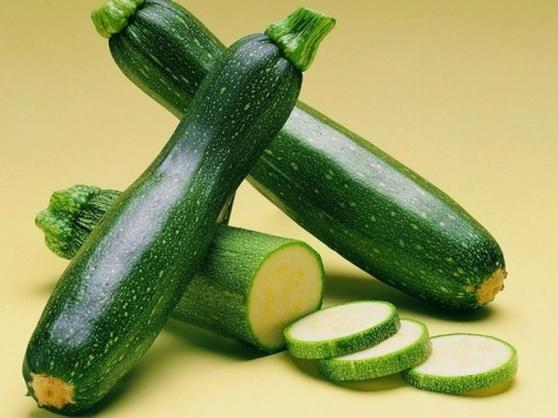zucchini: (23, 15, 317, 418)
